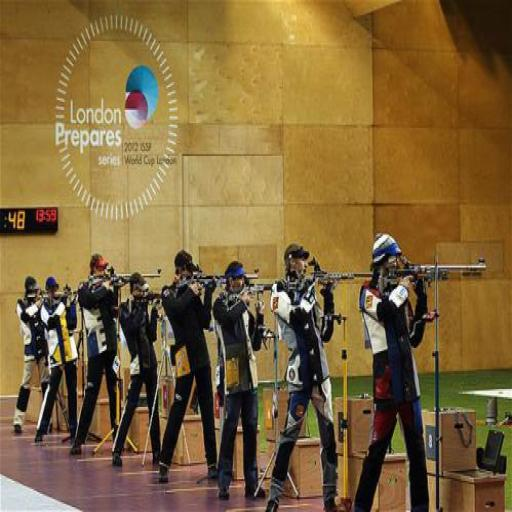shooting: (351, 230, 435, 510), (264, 242, 340, 510), (155, 248, 221, 489), (211, 258, 269, 506), (68, 251, 123, 461), (109, 269, 164, 473), (32, 272, 80, 450), (9, 272, 47, 440)
